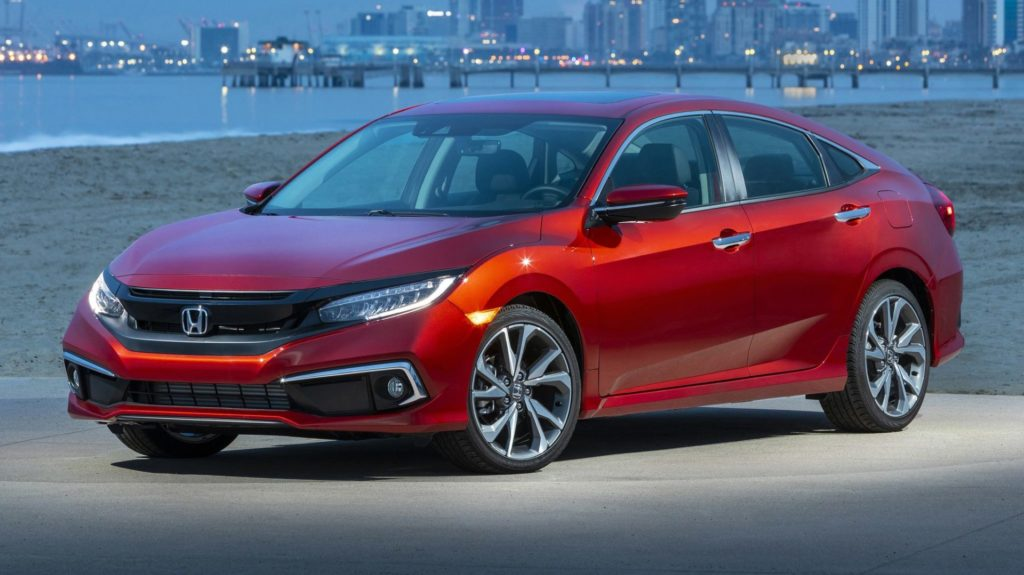car: (53, 83, 969, 478)
